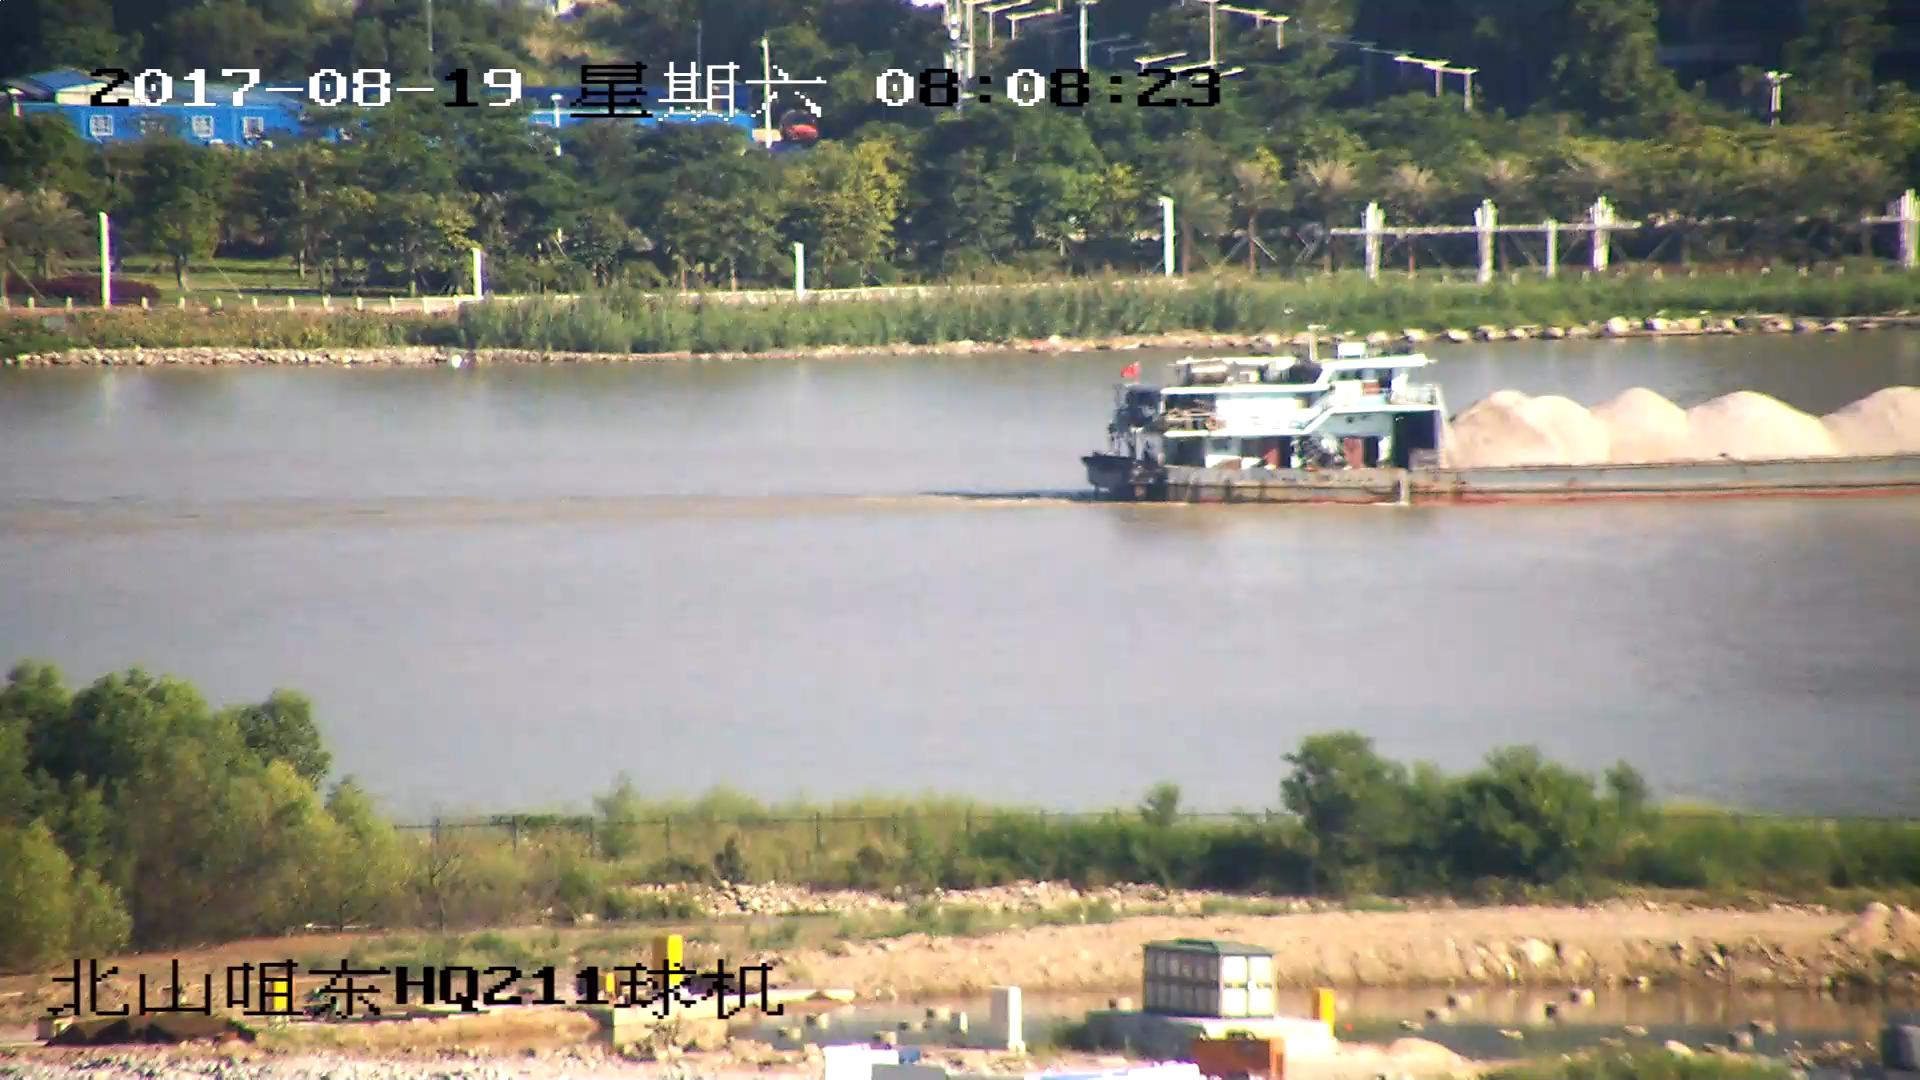ore carrier: (1079, 339, 1920, 505)
